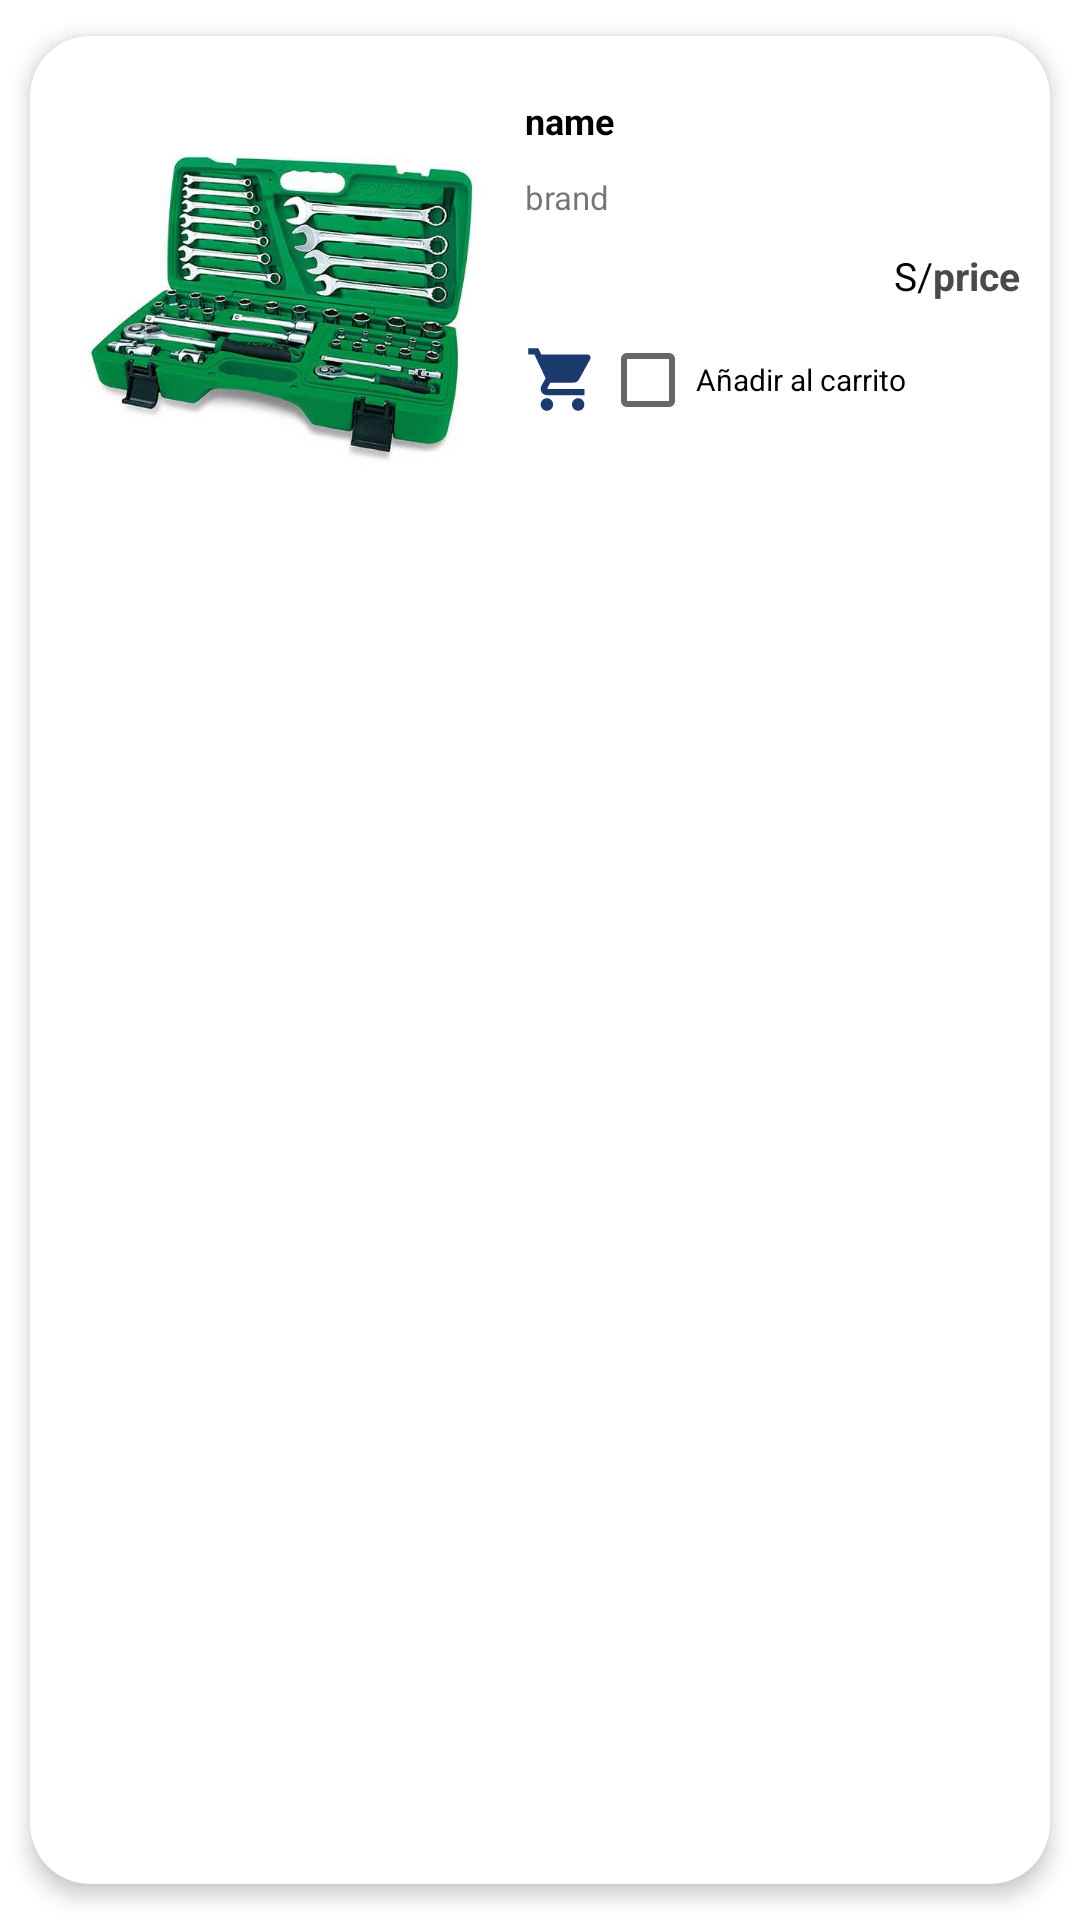

Screen size 1080*1920. Icon name, then its center in pixels as point (x, y):
shopping cart: point (559, 379)
